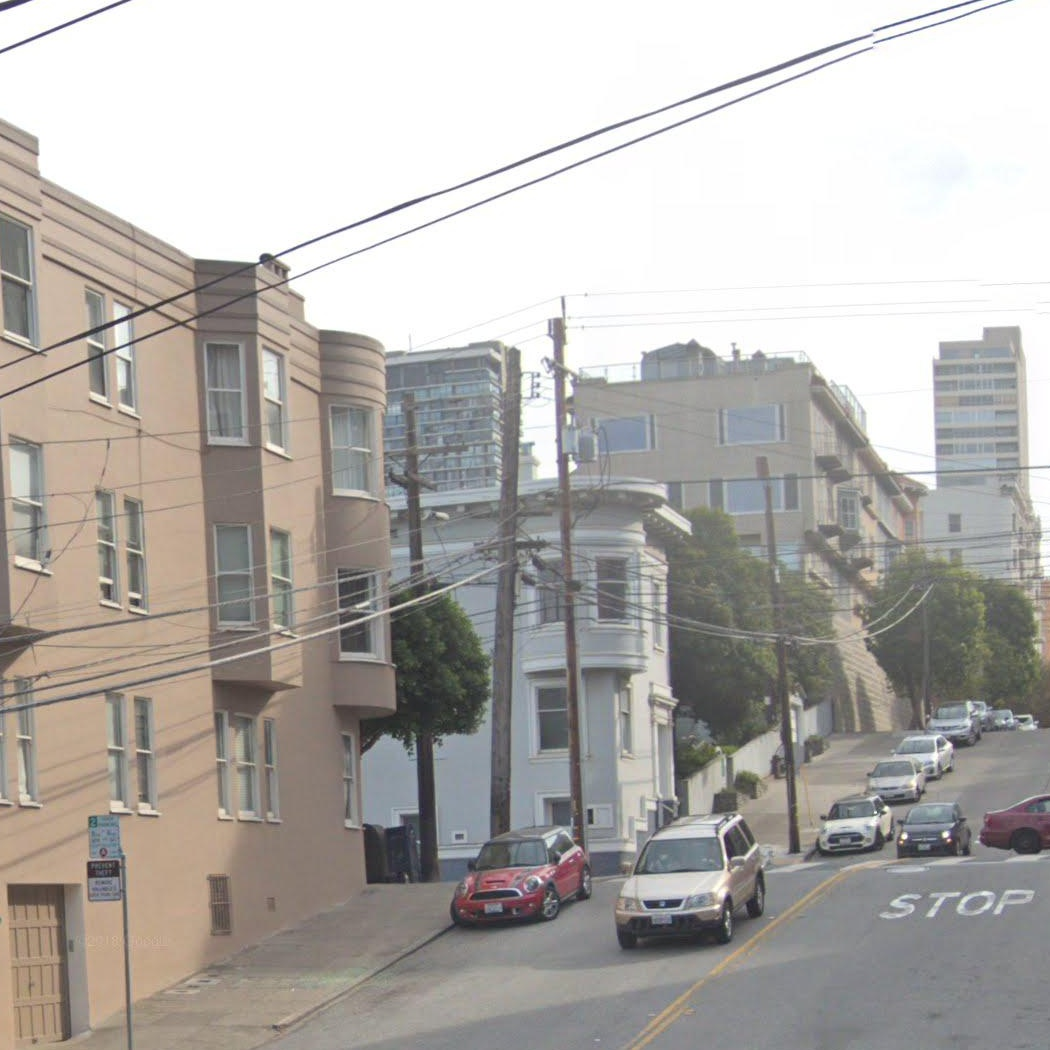2 Hour Parking: (86, 813, 123, 862)
